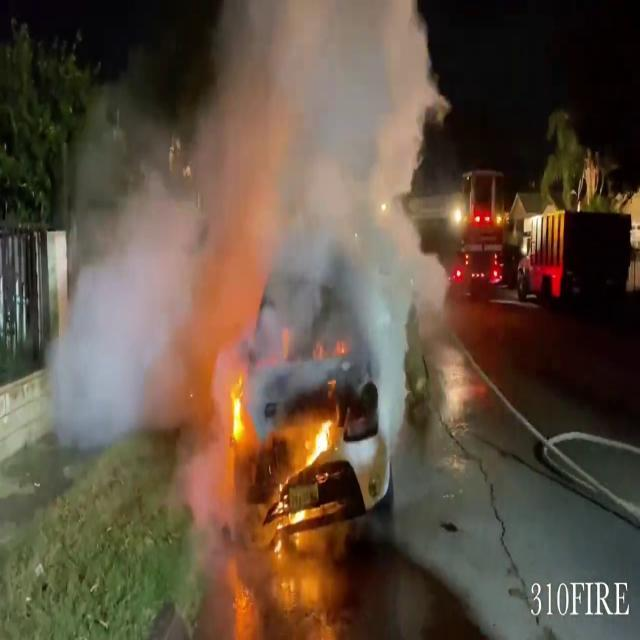Fire: (299, 408, 343, 476), (226, 373, 252, 448)
Smoke: (48, 0, 452, 340)
